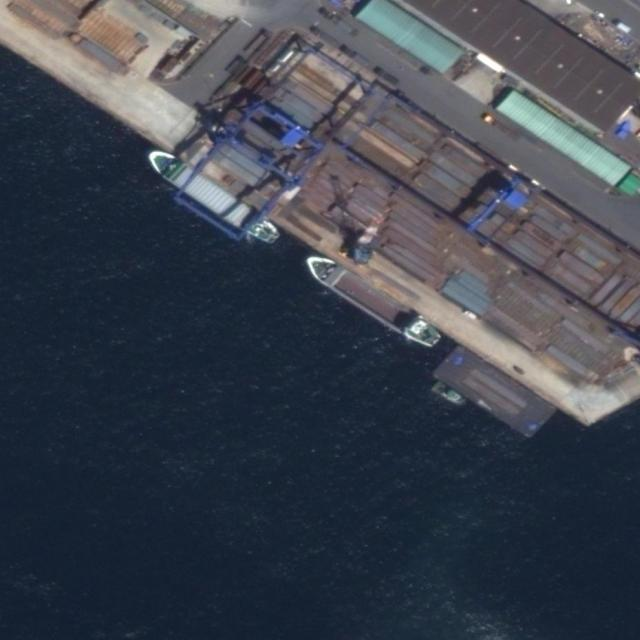Container Ship: (297, 245, 447, 356), (140, 140, 286, 251)
